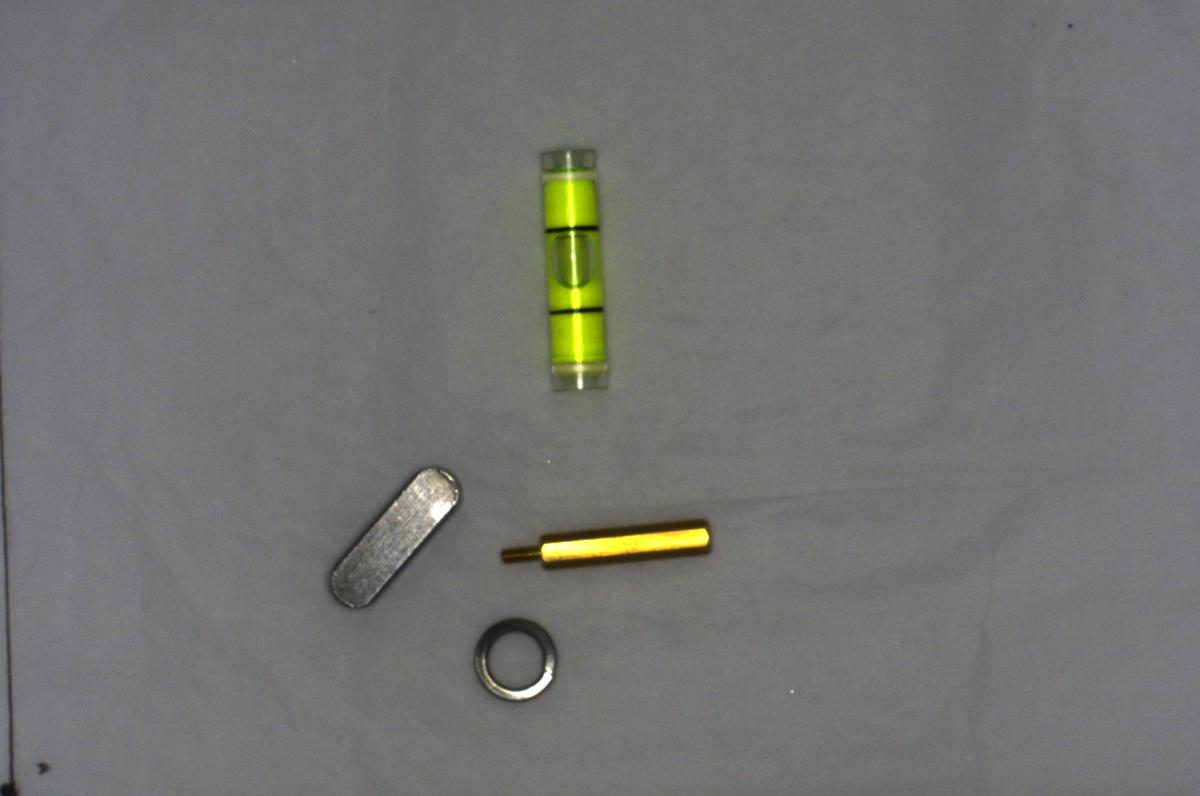Hexagon pillar: (494, 515, 719, 578)
Horizontal bubble: (521, 130, 626, 405)
Keybar: (313, 454, 466, 614)
Spring washer: (465, 603, 571, 715)
